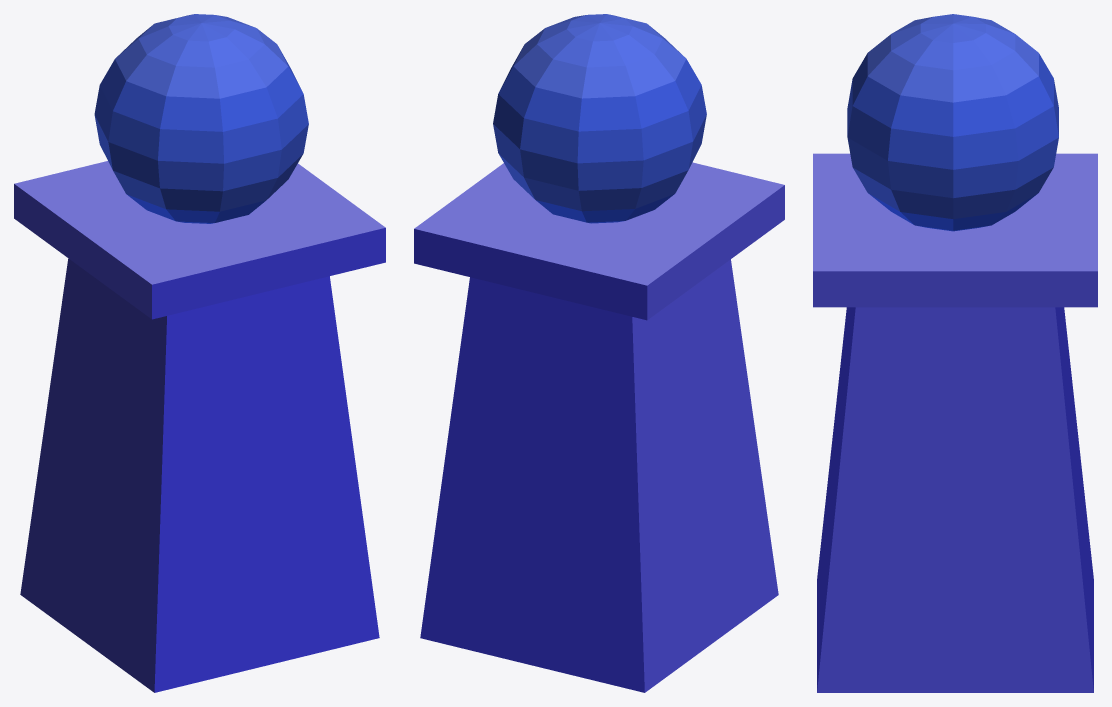
The model's file is barrier_pillar_01.fbx.
3 renders of one model, left to right at view 1: azimuth 30°, elevation 25°; view 2: azimuth 150°, elevation 25°; view 3: azimuth 270°, elevation 25°, orthographic. The views are drawn at different scales.
Parts seen in each view (by area): view 1: barrier_pillar_01; view 2: barrier_pillar_01; view 3: barrier_pillar_01.
Boxes of the visible parts, <box> form: barrier_pillar_01: <box>14,14,385,692</box>; barrier_pillar_01: <box>414,14,784,692</box>; barrier_pillar_01: <box>813,14,1097,692</box>.
Bounding box in the file's own units: 34.46 × 83.67 × 35.22.
Materials: 1 (1 with a texture image).
